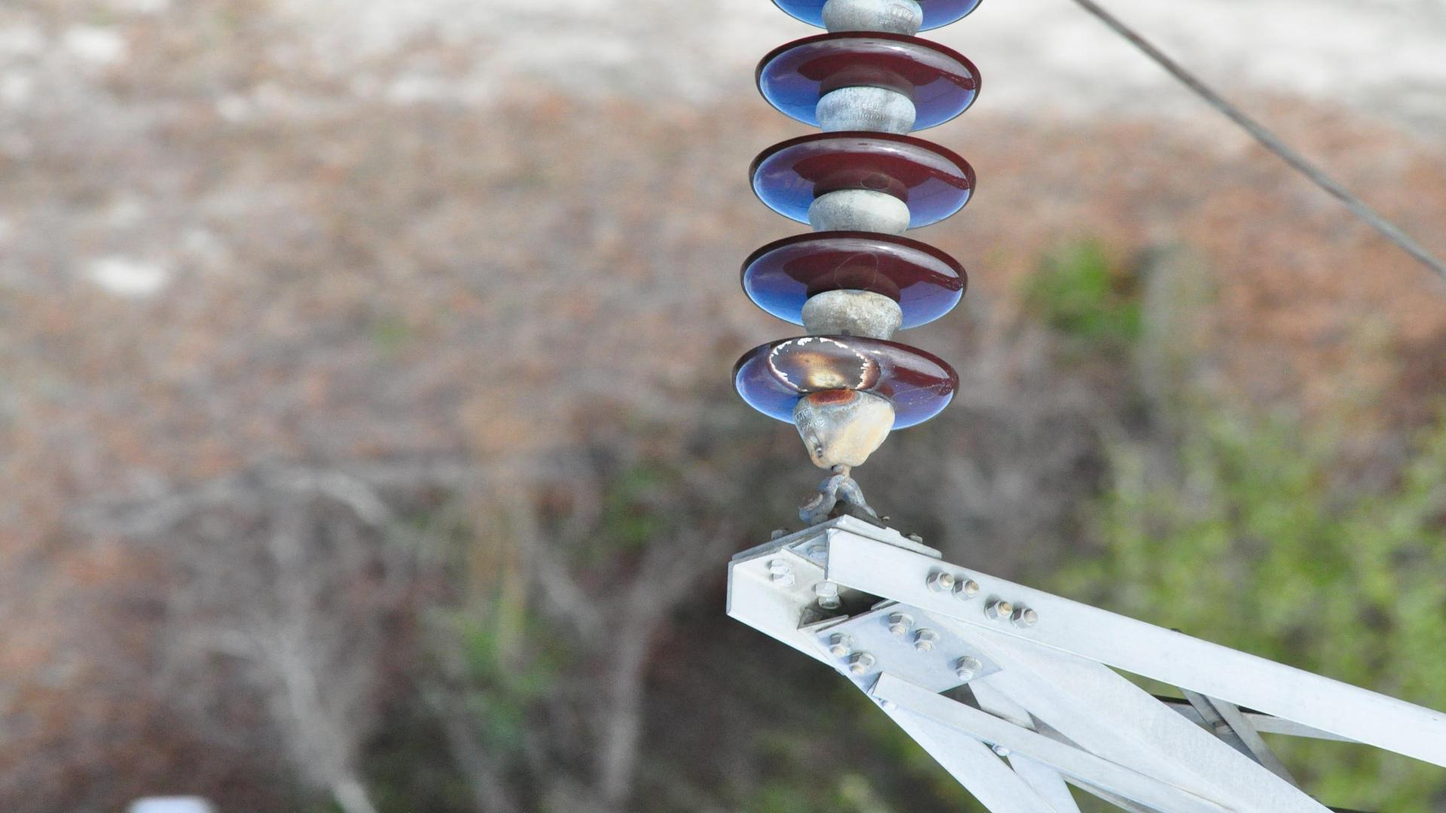insulator: (728, 1, 993, 435)
insulator_flashover: (765, 334, 871, 394)
